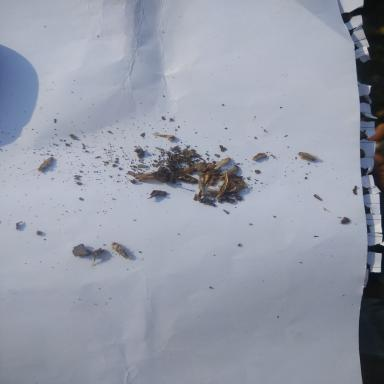pbw: (110, 242, 133, 260), (35, 155, 56, 173), (297, 150, 317, 164), (135, 172, 162, 182), (175, 174, 199, 184), (212, 158, 232, 168), (179, 166, 198, 174), (222, 167, 243, 174)
